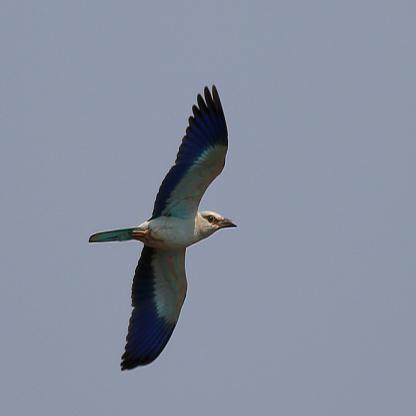Burung: (90, 84, 237, 374)
